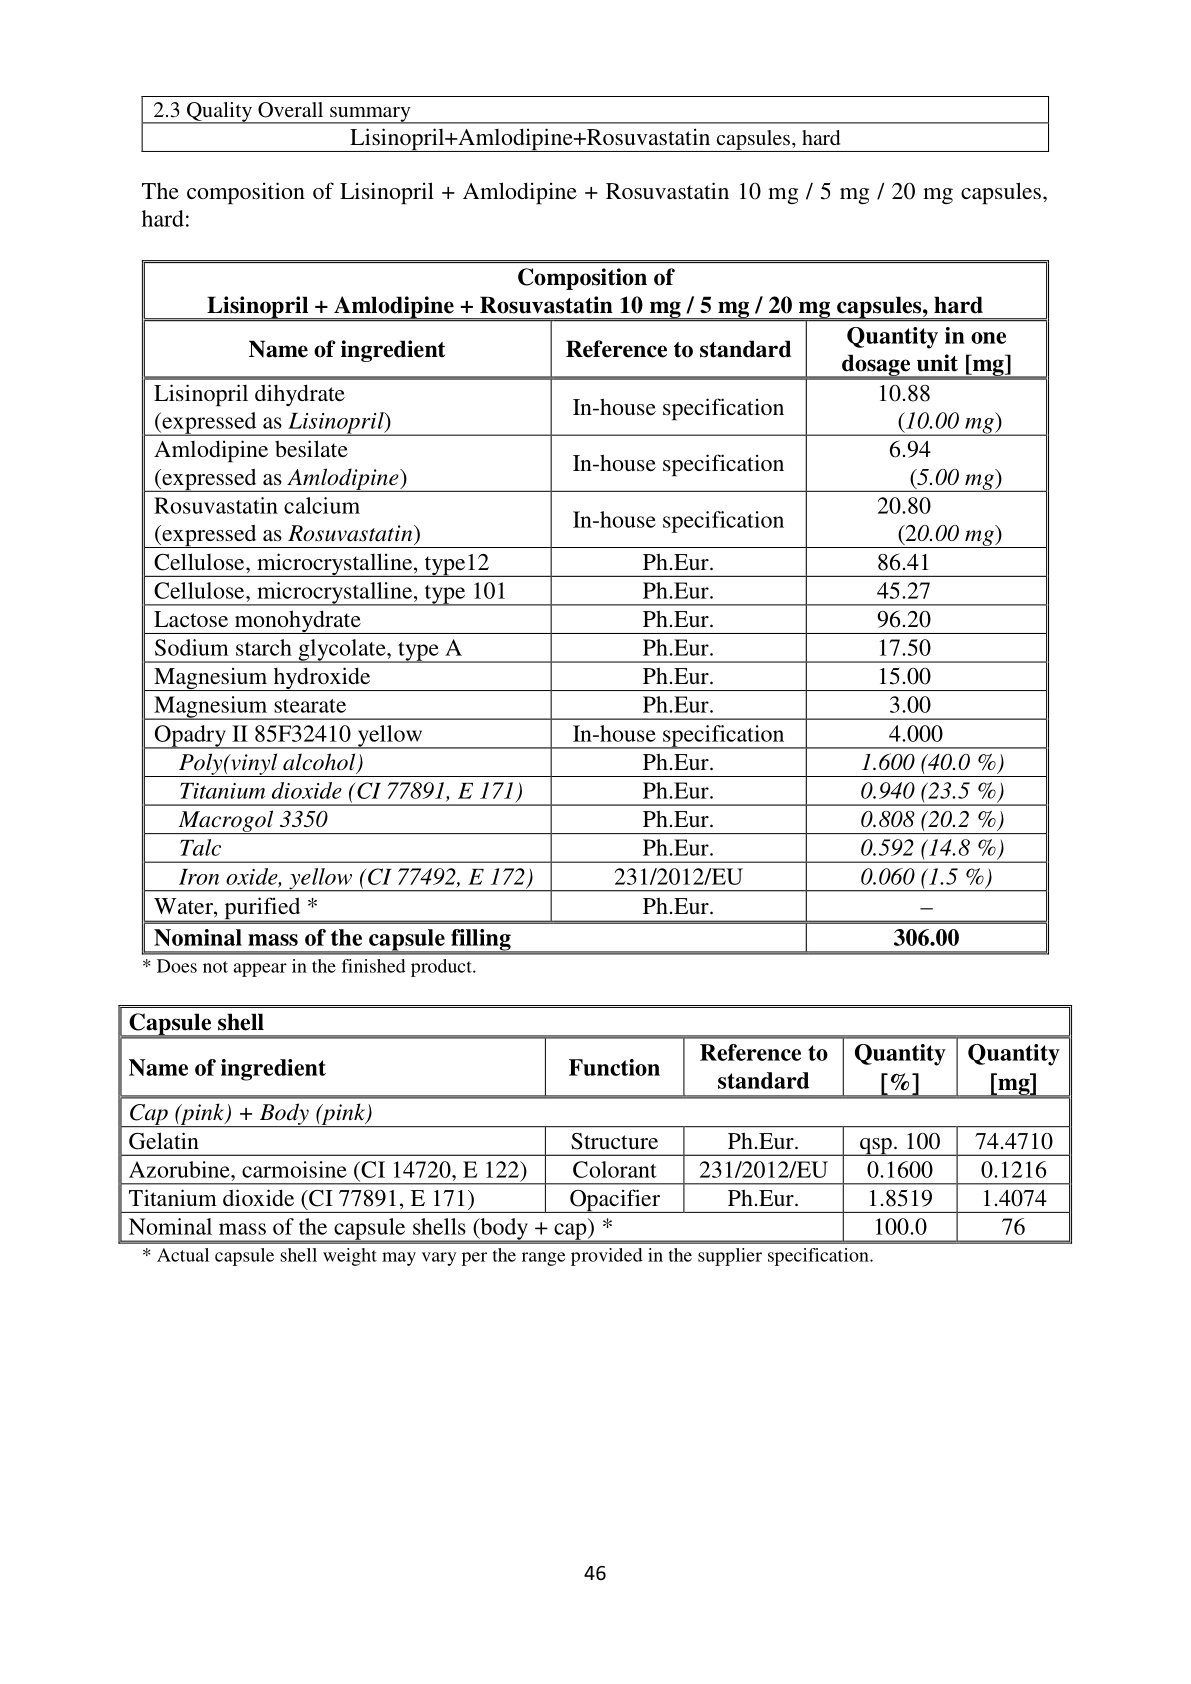full_lined: (139, 94, 1051, 155)
merged_cells: (139, 258, 1051, 957), (116, 1002, 1074, 1246)
